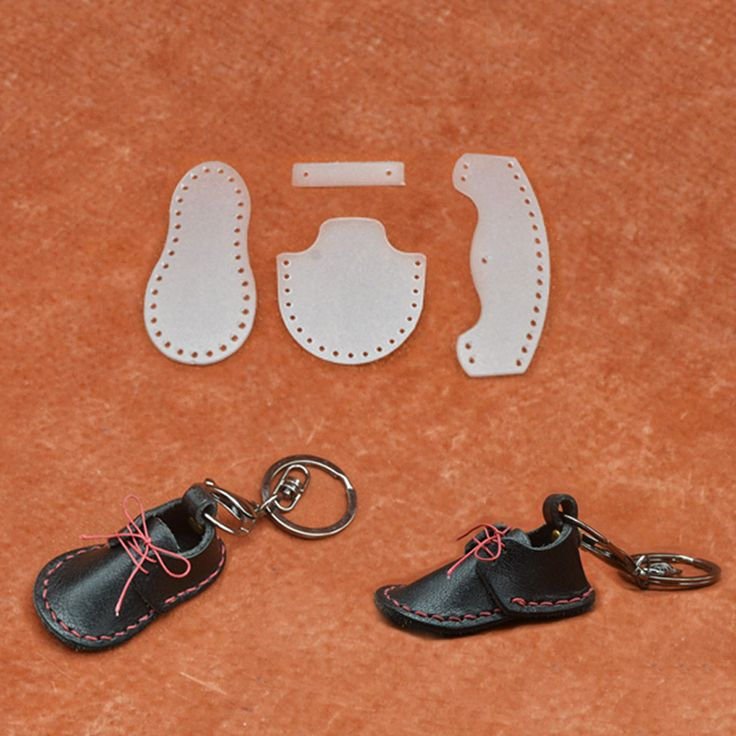cuero: (29, 484, 594, 654)
